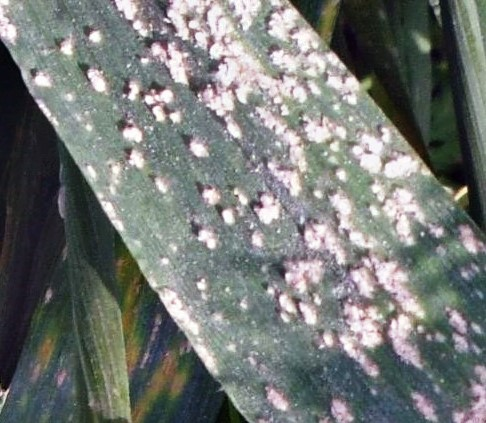Powdery Mildew: (80, 1, 445, 377)
